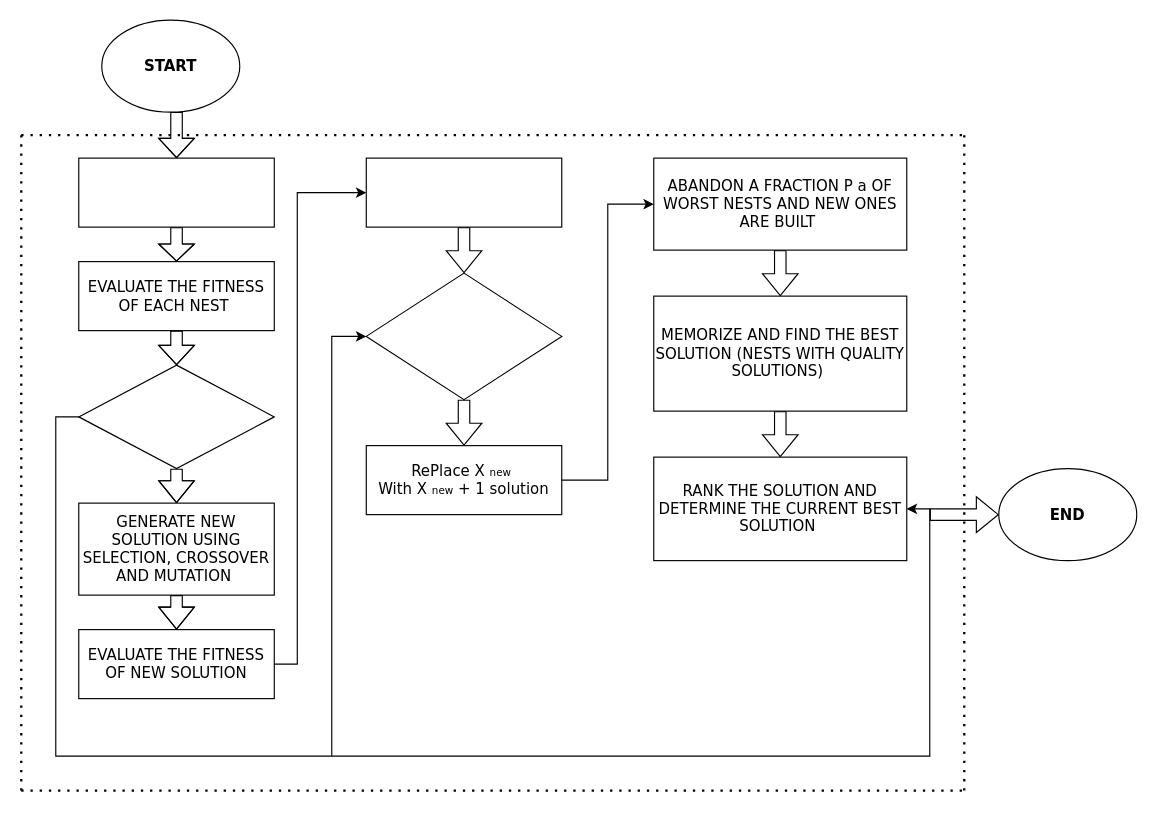
Image size: 1157x813. Some labels were removed from this diagram. The shapes that lost their labels are listed below. From the top down, each one's centre as x and y in pixels, then its label:
[176,192]: INITIALIZE THE POPULATION OF 'N' HOST NEST RANDOMLY
[463,192]: GENERATE NEW SOLUTION USING LEVY FLIGHT
[463,336]: ƒ ( X ­ NEW ) < ƒ ( X new )
[176,416]: t < MaxGen
